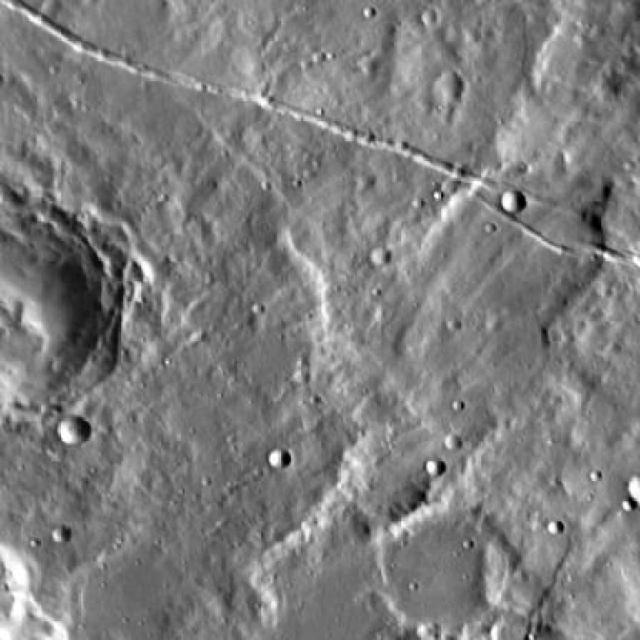crater: (354, 507, 500, 640), (41, 421, 73, 450), (611, 478, 640, 507), (417, 79, 448, 106), (483, 194, 509, 217), (355, 253, 374, 270), (412, 466, 430, 482), (263, 451, 280, 467)
